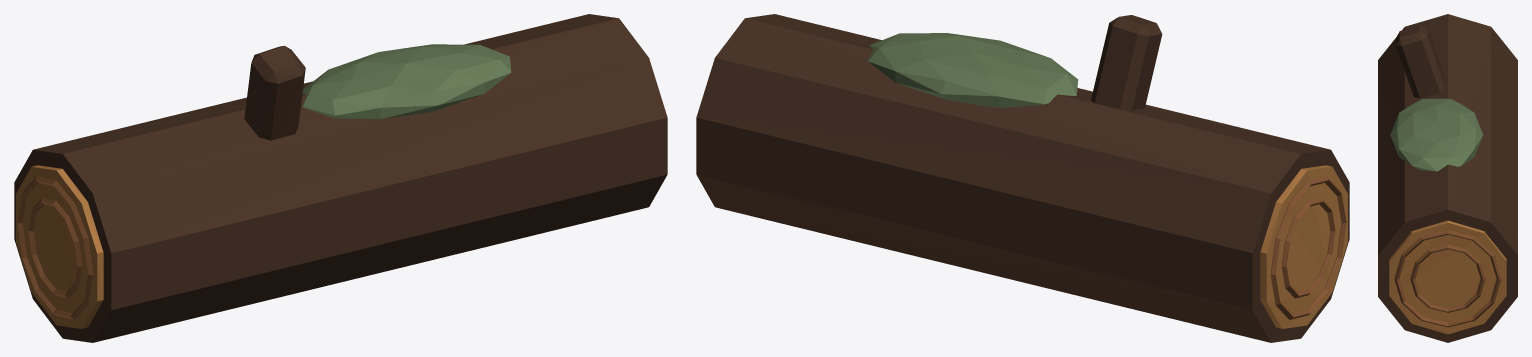
File: fallen_log_a.glb
3 renders of one model, left to right at view 1: azimuth 30°, elevation 25°; view 2: azimuth 150°, elevation 25°; view 3: azimuth 270°, elevation 25°, orthographic. The views are drawn at different scales.
Parts seen in each view (by area): view 1: body; view 2: body; view 3: body.
Boxes of the visible parts, x1,y1,x2,y2 form: body: (14,14,667,342); body: (696,14,1349,342); body: (1378,14,1517,342).
Bounding box in the file's own units: 1.5 × 0.6429 × 0.4375.
